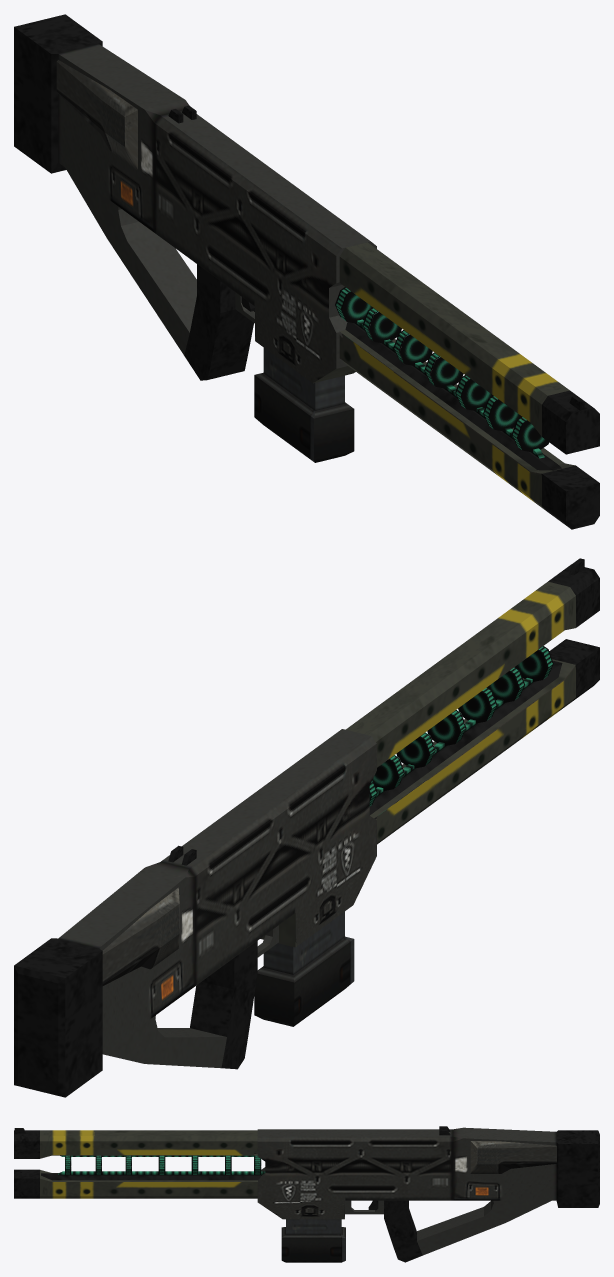
Rendered from Railgun.fbx.
3 views of the same model, one above another, from view 1: azimuth 30°, elevation 25°; view 2: azimuth 150°, elevation 25°; view 3: azimuth 270°, elevation 25° (orthographic). The views are drawn at different scales.
Visible parts, largest first — view 1: Cube.001, Cube, Cube.003, Cube.004, Cylinder, Cube.005, Cube.008; view 2: Cube.001, Cube, Cube.003, Cube.004, Cylinder, Cube.005, Cube.008; view 3: Cube.001, Cube, Cube.003, Cube.004, Cube.005, Cube.008, Cube.006, Cylinder, Cube.002.
Part boxes in pixels (x1,y1,x2,y2): Cube.001: (14, 14, 376, 383); Cube: (339, 242, 599, 529); Cube.003: (65, 168, 254, 380); Cube.004: (254, 348, 354, 462); Cylinder: (335, 287, 548, 452); Cube.005: (56, 60, 137, 170); Cube.008: (342, 322, 561, 470); Cube.001: (14, 729, 376, 1097); Cube: (346, 564, 599, 844); Cube.003: (103, 941, 257, 1069); Cube.004: (254, 911, 354, 1026); Cylinder: (369, 646, 553, 806); Cube.005: (102, 887, 179, 985); Cube.008: (369, 661, 562, 819); Cube.001: (257, 1127, 599, 1219); Cube: (14, 1130, 257, 1198); Cube.003: (384, 1200, 551, 1262); Cube.004: (281, 1219, 345, 1262); Cube.005: (470, 1141, 556, 1173); Cube.008: (41, 1153, 260, 1180); Cube.006: (58, 1155, 265, 1175); Cylinder: (65, 1155, 261, 1174); Cube.002: (345, 1200, 383, 1214).
Size of the model in its own units: 270 by 1138 by 4648.
